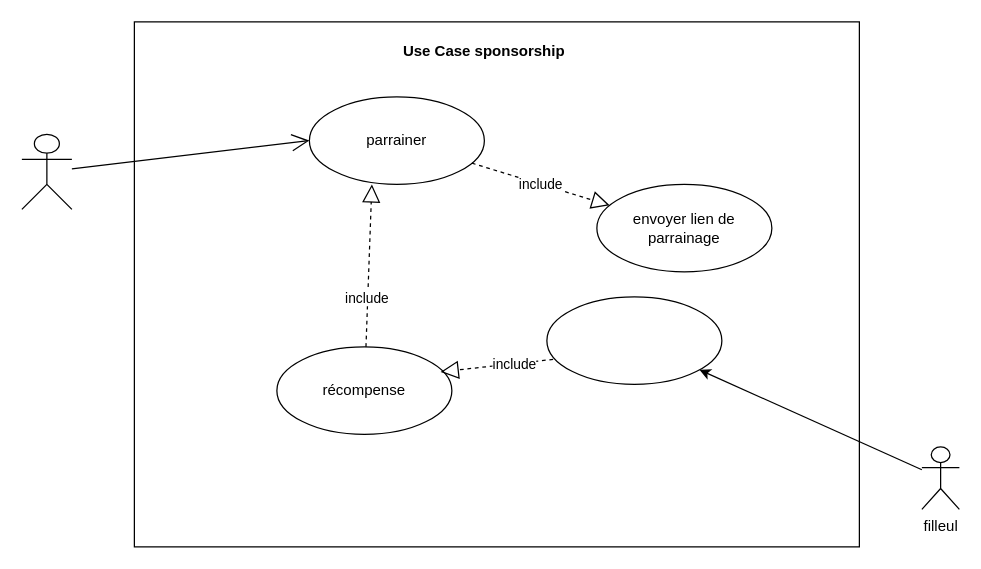
This 981x569 diagram has some shape labels left out. Here are the shapes that lost their labels. From the top down, the centre of each, then its label:
At point 46,171: "Client".
At point 634,340: "Créer un compte".
